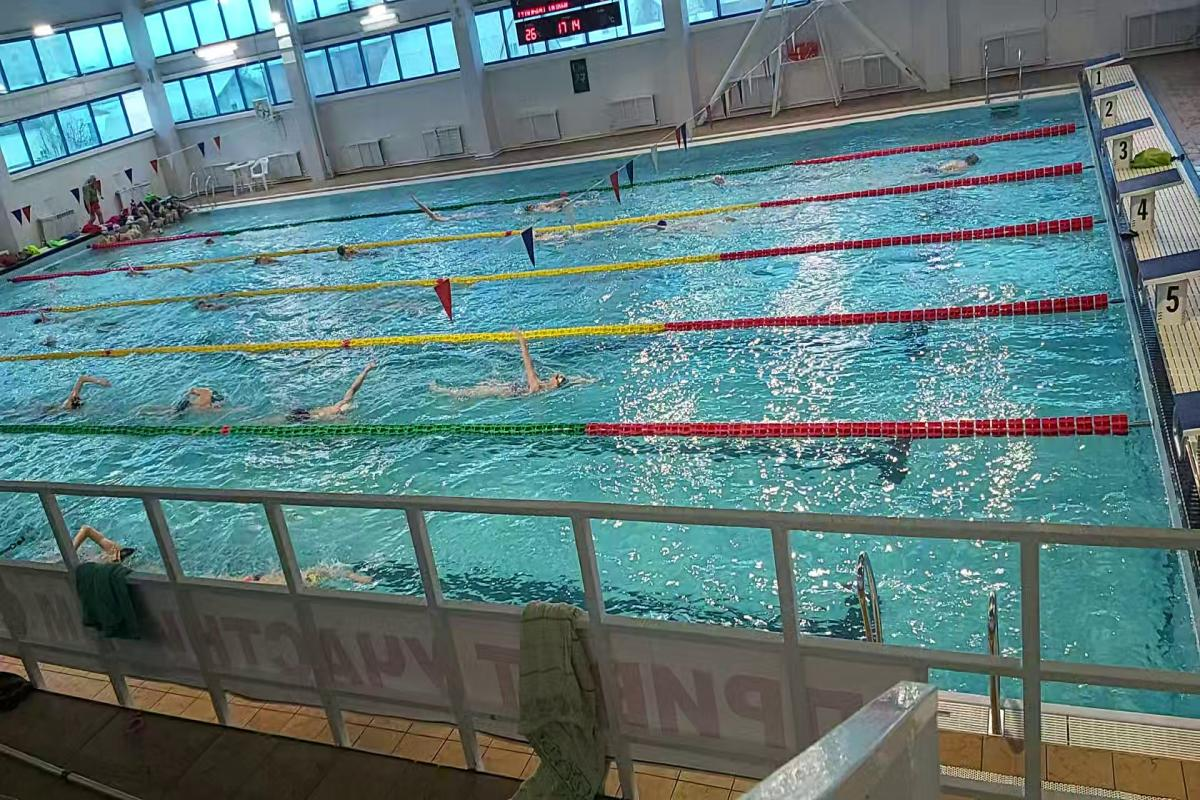swimmer: (424, 344, 592, 402), (266, 367, 385, 427), (150, 376, 248, 423), (32, 367, 117, 419), (73, 515, 146, 564), (408, 190, 493, 224), (896, 154, 986, 176), (698, 172, 760, 189), (522, 198, 582, 215), (333, 243, 380, 262), (192, 296, 239, 314), (250, 252, 285, 269)
